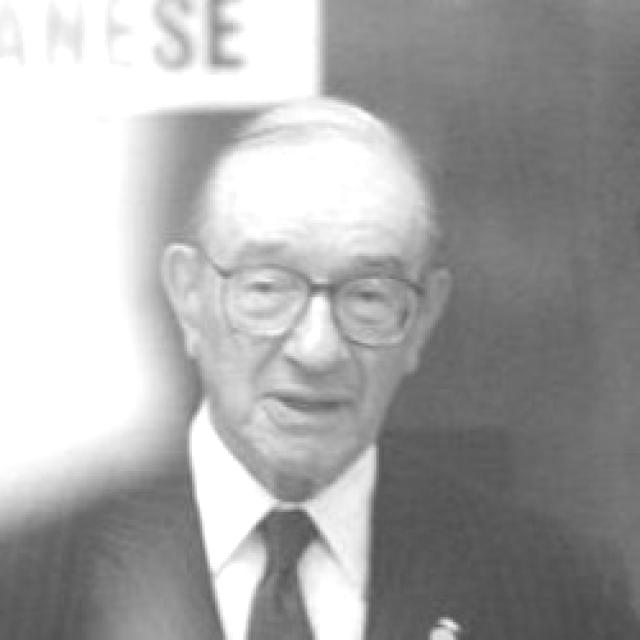real: (189, 99, 431, 481), (222, 269, 409, 329)
